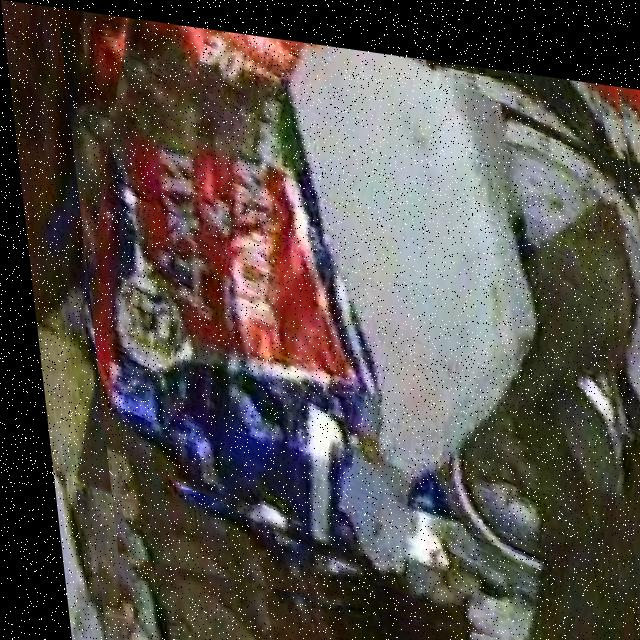can: (57, 6, 640, 640)
